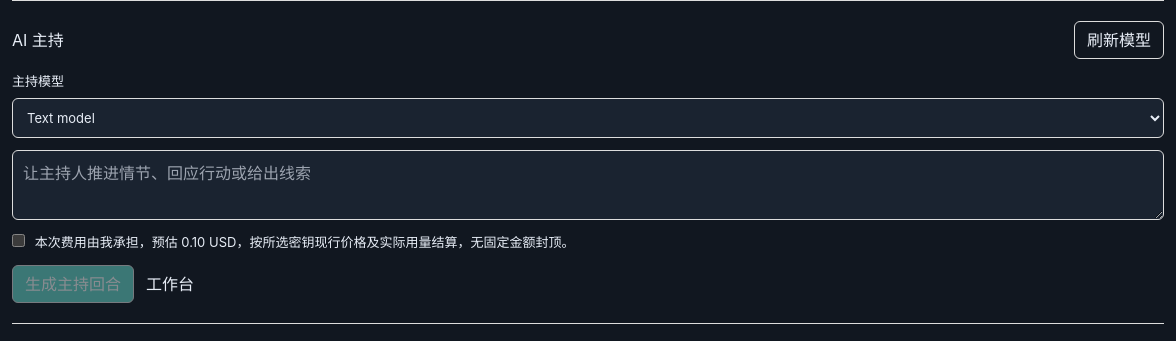
Scenario: tavern owner AI turn › requires consent and only lists text models
Expected: the button with class "ai-generate" is disabled, [12,265,134,303]
Step 1. Click the checkbox labelled "本次费用由我承担，预估 0.10 USD，按所选密钥现行价格及实际用量结算，无固定金额封顶。" → click(18, 240), box [12,234,25,247]
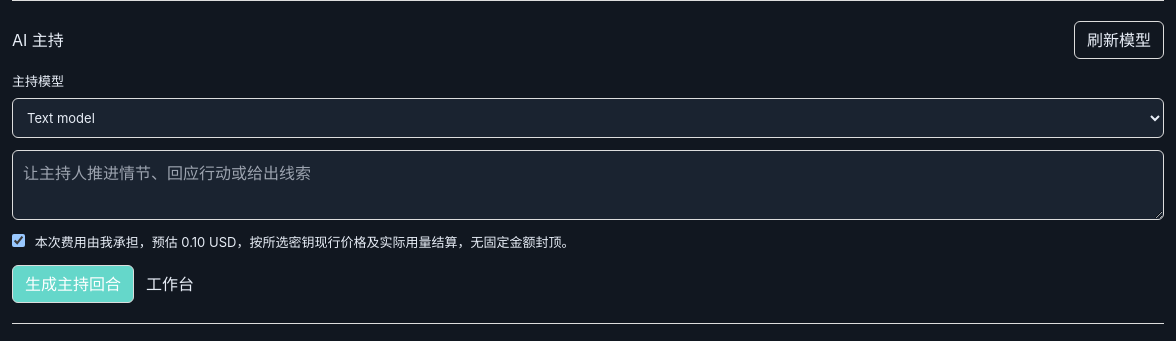
Expected: the button with class "ai-generate" is enabled, [12,265,134,303]
